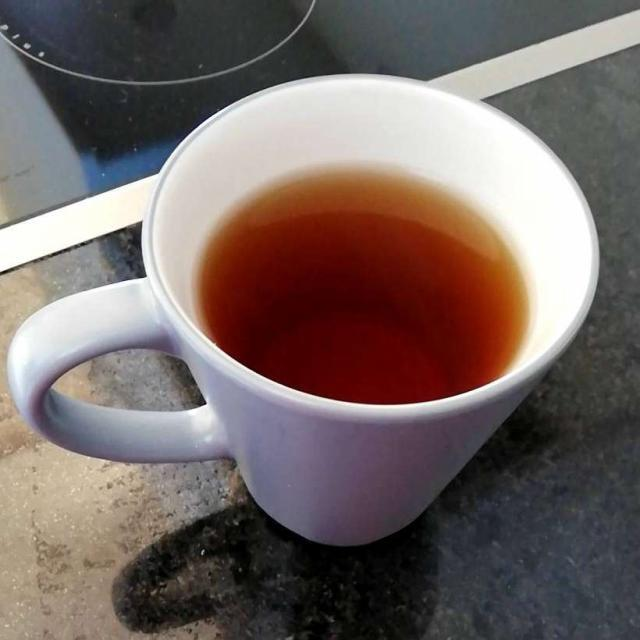tea: (198, 174, 521, 400)
